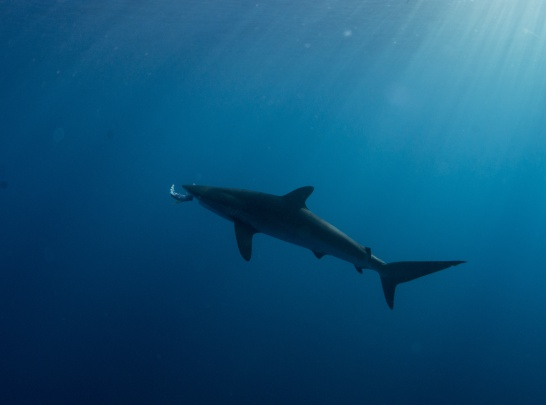Sedoso: (166, 175, 475, 319)
